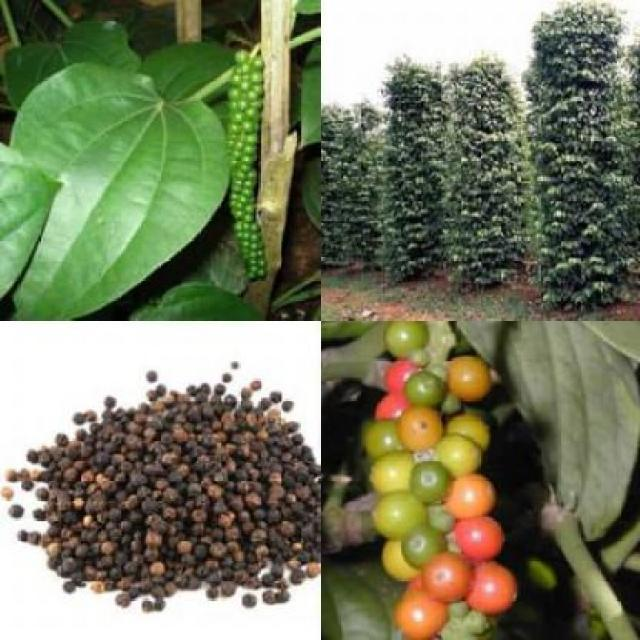RIPE: (371, 348, 518, 630)
UNRIPE: (220, 39, 283, 273)
